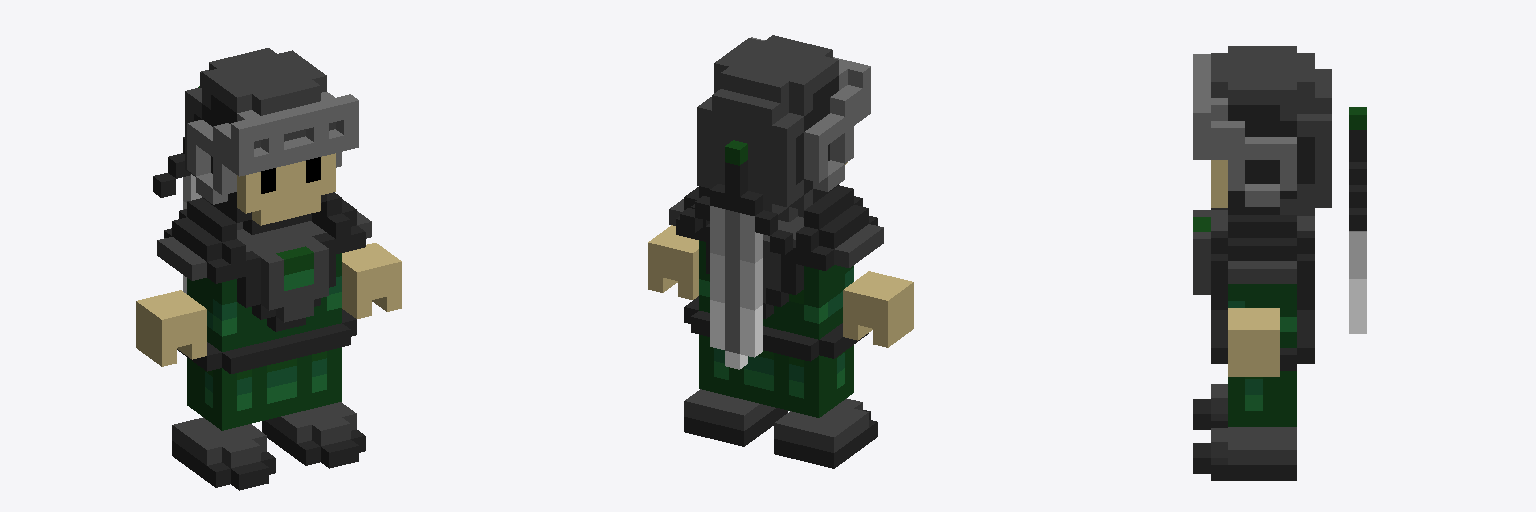
3 renders of one model, left to right at view 1: azimuth 30°, elevation 25°; view 2: azimuth 150°, elevation 25°; view 3: azimuth 270°, elevation 25°, orthographic.
Parts seen in each view (by area): view 1: GreenKnight; view 2: GreenKnight; view 3: GreenKnight.
Part boxes in pixels (x1,y1,x2,y2): GreenKnight: (136,48,401,490); GreenKnight: (648,35,913,468); GreenKnight: (1193,46,1366,480).
Bounding box in the file's own units: 16 × 24 × 10.
1 materials, 1 textured.